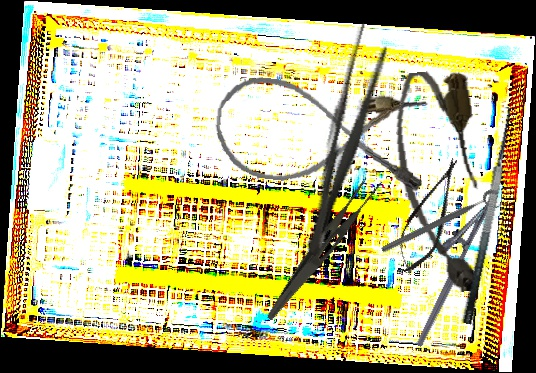Cannula: (209, 72, 433, 198), (387, 66, 494, 298)
Dressing Forceps: (294, 21, 395, 261), (265, 168, 385, 332)
Fixation Ring: (379, 186, 506, 263)
Micro Scissor: (386, 151, 473, 280)
Needle Holder: (394, 182, 500, 348)
Spatula Surgical: (443, 103, 523, 326)
